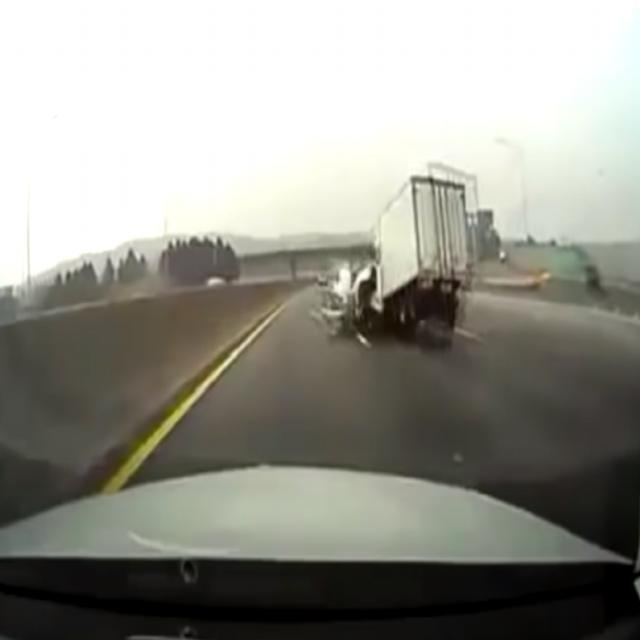accident: (309, 172, 473, 348)
